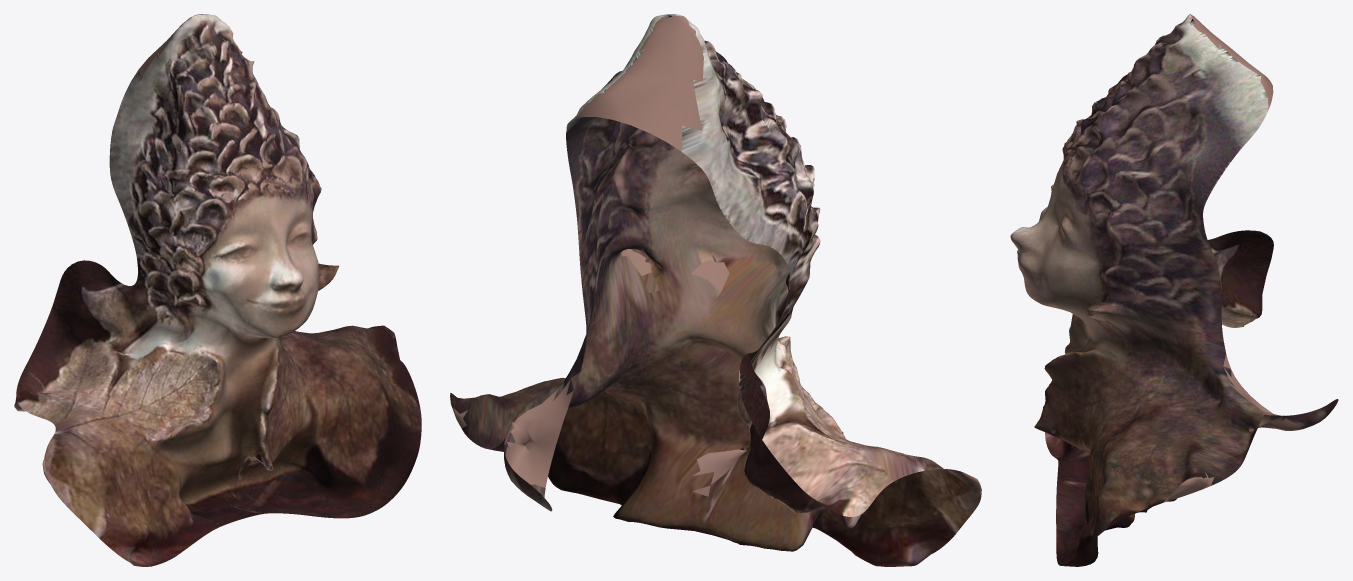
The model's file is ladyHead.glb.
3 renders of one model, left to right at view 1: azimuth 30°, elevation 25°; view 2: azimuth 150°, elevation 25°; view 3: azimuth 270°, elevation 25°, orthographic. The views are drawn at different scales.
Visible parts, largest first — view 1: ladyHead; view 2: ladyHead; view 3: ladyHead.
Part boxes in pixels (bbox=[...]): ladyHead: bbox=[14, 14, 421, 566]; ladyHead: bbox=[450, 14, 981, 566]; ladyHead: bbox=[1010, 14, 1338, 566].
Size of the model in its own units: 14.68 by 17.04 by 10.31.
Materials: 1 (1 with a texture image).
